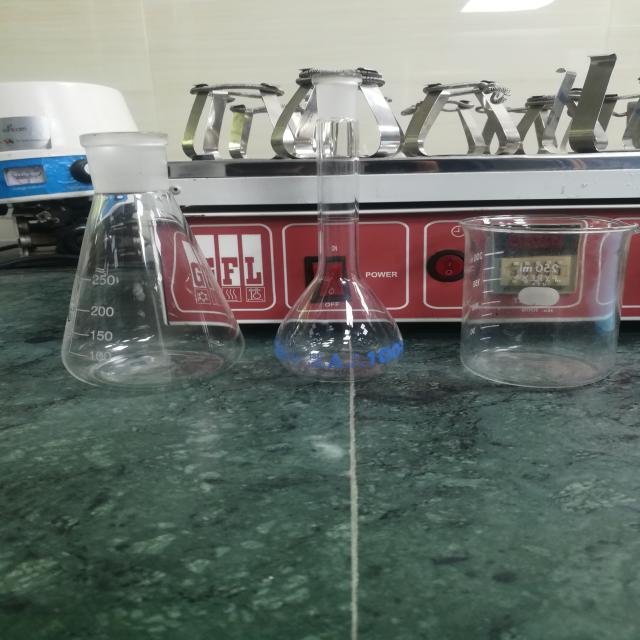Beaker: (432, 179, 640, 406)
Conical_Flask: (35, 107, 258, 405)
Volumetric_Flask: (267, 68, 418, 402)
